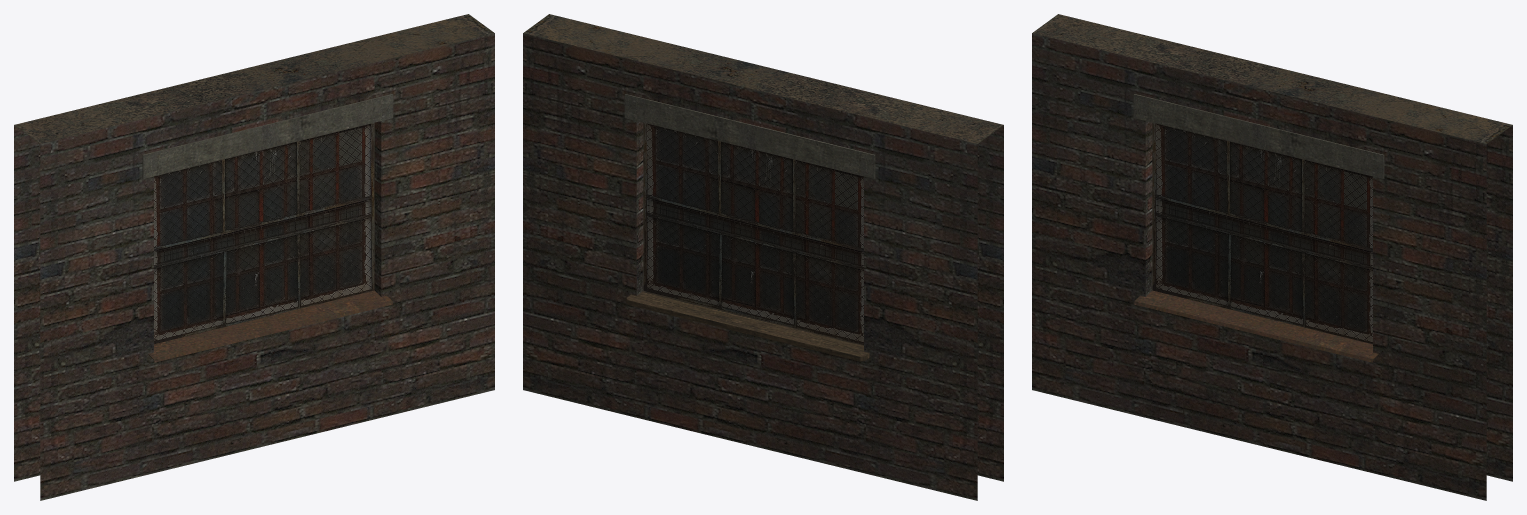
File: window_hs_1.obj
3 renders of one model, left to right at view 1: azimuth 30°, elevation 25°; view 2: azimuth 150°, elevation 25°; view 3: azimuth 330°, elevation 25°, orthographic.
Visible parts, largest first — view 1: window_hs_1; view 2: window_hs_1; view 3: window_hs_1.
Part boxes in pixels (left/top/right/bottom): window_hs_1: left=14, top=14, right=494, bottom=500; window_hs_1: left=523, top=14, right=1003, bottom=500; window_hs_1: left=1032, top=14, right=1512, bottom=500.
Bounding box in the file's own units: 4 × 3 × 0.595.
